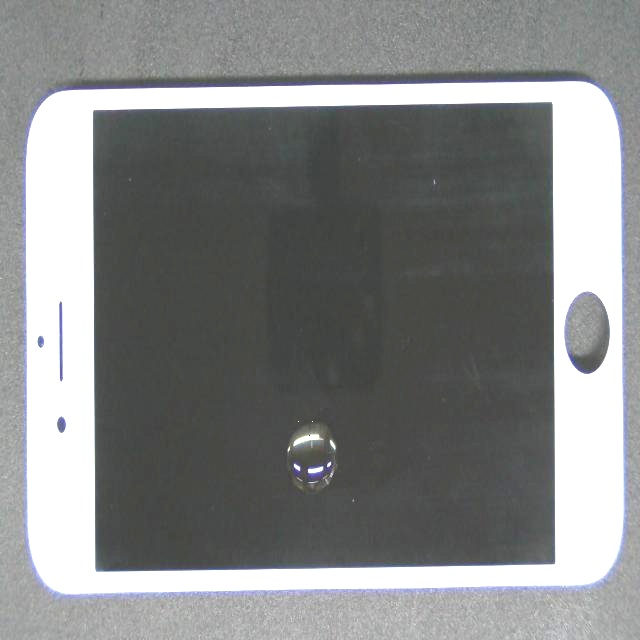oil: (170, 186, 456, 624)
